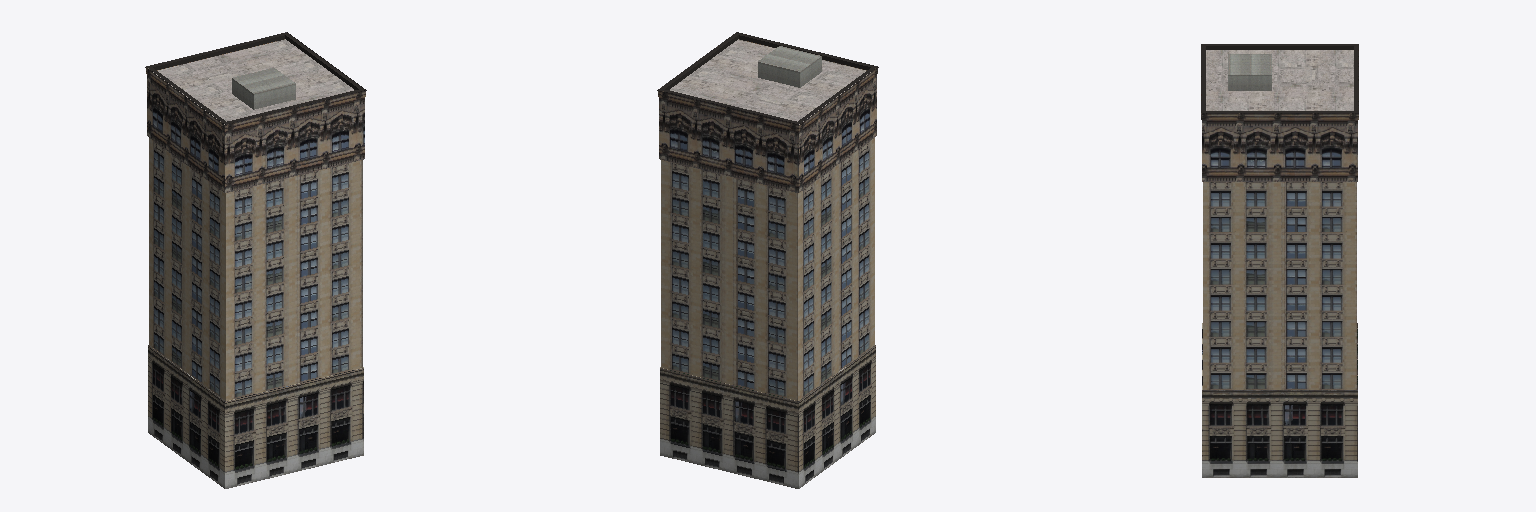
3 renders of one model, left to right at view 1: azimuth 30°, elevation 25°; view 2: azimuth 150°, elevation 25°; view 3: azimuth 270°, elevation 25°, orthographic.
Visible parts, largest first — view 1: building_17; view 2: building_17; view 3: building_17.
Part boxes in pixels (left/top/right/bottom): building_17: left=145, top=32, right=366, bottom=488; building_17: left=657, top=32, right=878, bottom=488; building_17: left=1201, top=44, right=1358, bottom=477.
Size of the model in its own units: 57.95 by 147 by 56.05.
Materials: 1 (1 with a texture image).